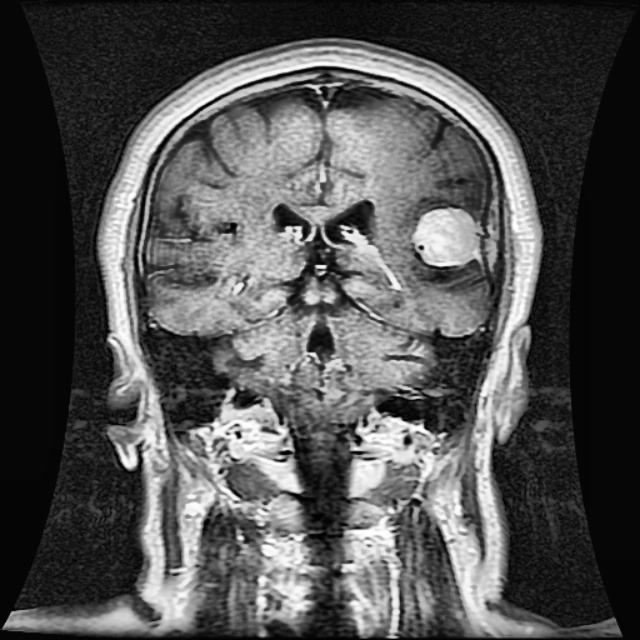Glioma: (414, 207, 475, 267)
